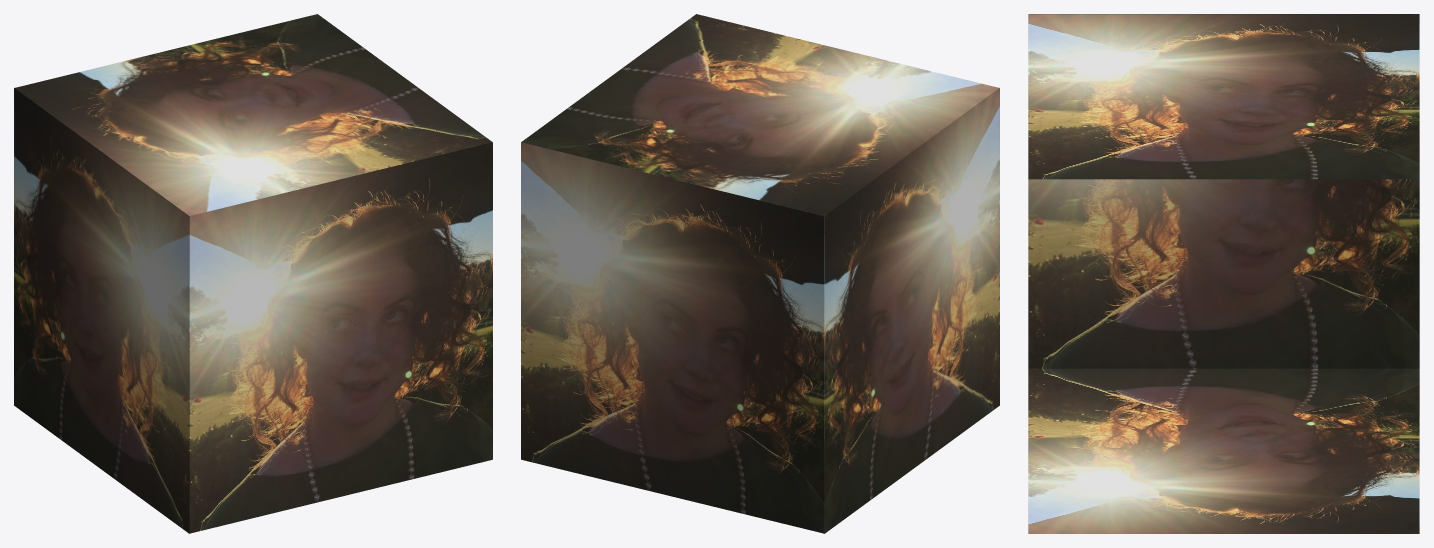
Rendered from reflection_box.fbx.
3 renders of one model, left to right at view 1: azimuth 30°, elevation 25°; view 2: azimuth 150°, elevation 25°; view 3: azimuth 270°, elevation 25°, orthographic. The views are drawn at different scales.
Visible parts, largest first — view 1: reflectionW, reflectionMain, reflectionN; view 2: reflectionE, reflectionMain, reflectionN; view 3: reflectionMain, reflectionS, reflectionN.
Part boxes in pixels (x1=…): reflectionW: x1=189, y1=142, x2=492, y2=533; reflectionMain: x1=14, y1=88, x2=189, y2=533; reflectionN: x1=15, y1=14, x2=492, y2=215; reflectionE: x1=521, y1=142, x2=824, y2=533; reflectionMain: x1=824, y1=88, x2=999, y2=533; reflectionN: x1=521, y1=14, x2=998, y2=215; reflectionMain: x1=1028, y1=14, x2=1419, y2=368; reflectionS: x1=1028, y1=368, x2=1419, y2=533; reflectionN: x1=1028, y1=14, x2=1419, y2=179.
Bounding box in the file's own units: 1 × 1 × 1.
Materials: 5 (5 with a texture image).
